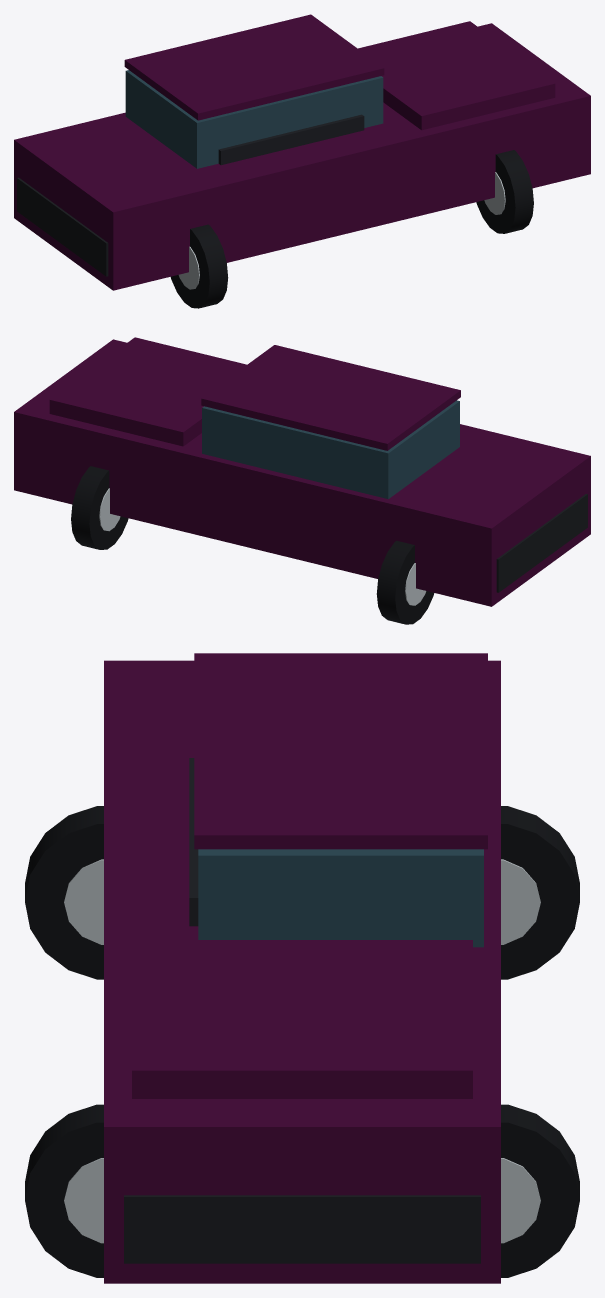
File: chevy_s_10.glb
3 views of the same model, one above another, from view 1: azimuth 30°, elevation 25°; view 2: azimuth 150°, elevation 25°; view 3: azimuth 270°, elevation 25° (orthographic). The views are drawn at different scales.
Parts seen in each view (by area): view 1: body, roof, hood, cabin, rear_bumper, front_right_wheel, rear_right_wheel, interior; view 2: body, roof, cabin, hood, rear_bumper, front_left_wheel, rear_left_wheel; view 3: body, roof, hood, cabin, front_bumper, rear_left_wheel, rear_right_wheel, front_left_wheel, front_right_wheel, interior.
Boxes of the visible parts, x1,y1,x2,y2 form: body: (14, 23, 590, 290); roof: (124, 14, 384, 120); hood: (358, 21, 555, 130); cabin: (125, 70, 383, 168); rear_bumper: (17, 177, 108, 276); front_right_wheel: (476, 150, 533, 233); rear_right_wheel: (170, 224, 228, 308); interior: (218, 114, 364, 165); body: (14, 339, 590, 606); roof: (201, 345, 460, 450); cabin: (202, 400, 459, 499); hood: (49, 337, 246, 446); rear_bumper: (496, 494, 587, 592); front_left_wheel: (71, 466, 128, 549); rear_left_wheel: (376, 540, 434, 624); body: (104, 660, 500, 1283); roof: (194, 653, 487, 849); hood: (132, 940, 472, 1098); cabin: (198, 849, 483, 947); front_bumper: (124, 1195, 480, 1263); rear_left_wheel: (501, 806, 579, 979); rear_right_wheel: (25, 806, 103, 979); front_left_wheel: (501, 1104, 579, 1277); front_right_wheel: (25, 1104, 103, 1277); interior: (189, 758, 198, 926).
Bounding box in the file's own units: 5.75 × 1.93 × 2.87.
